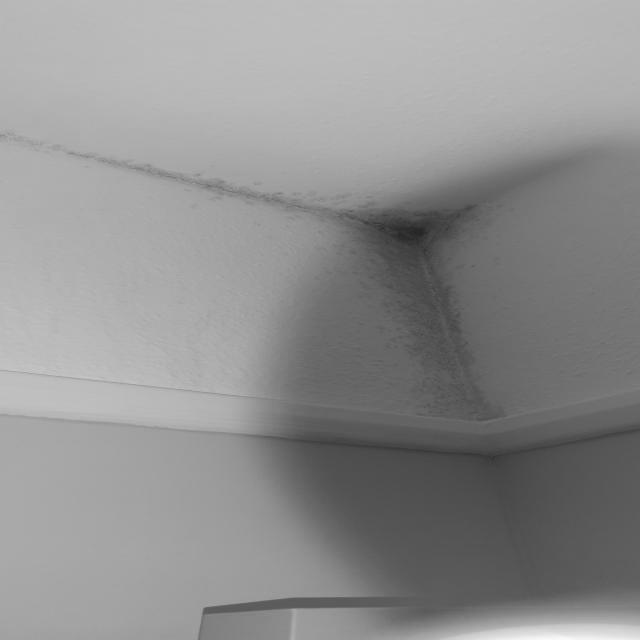stain marks: (296, 174, 568, 428), (0, 122, 532, 246)
